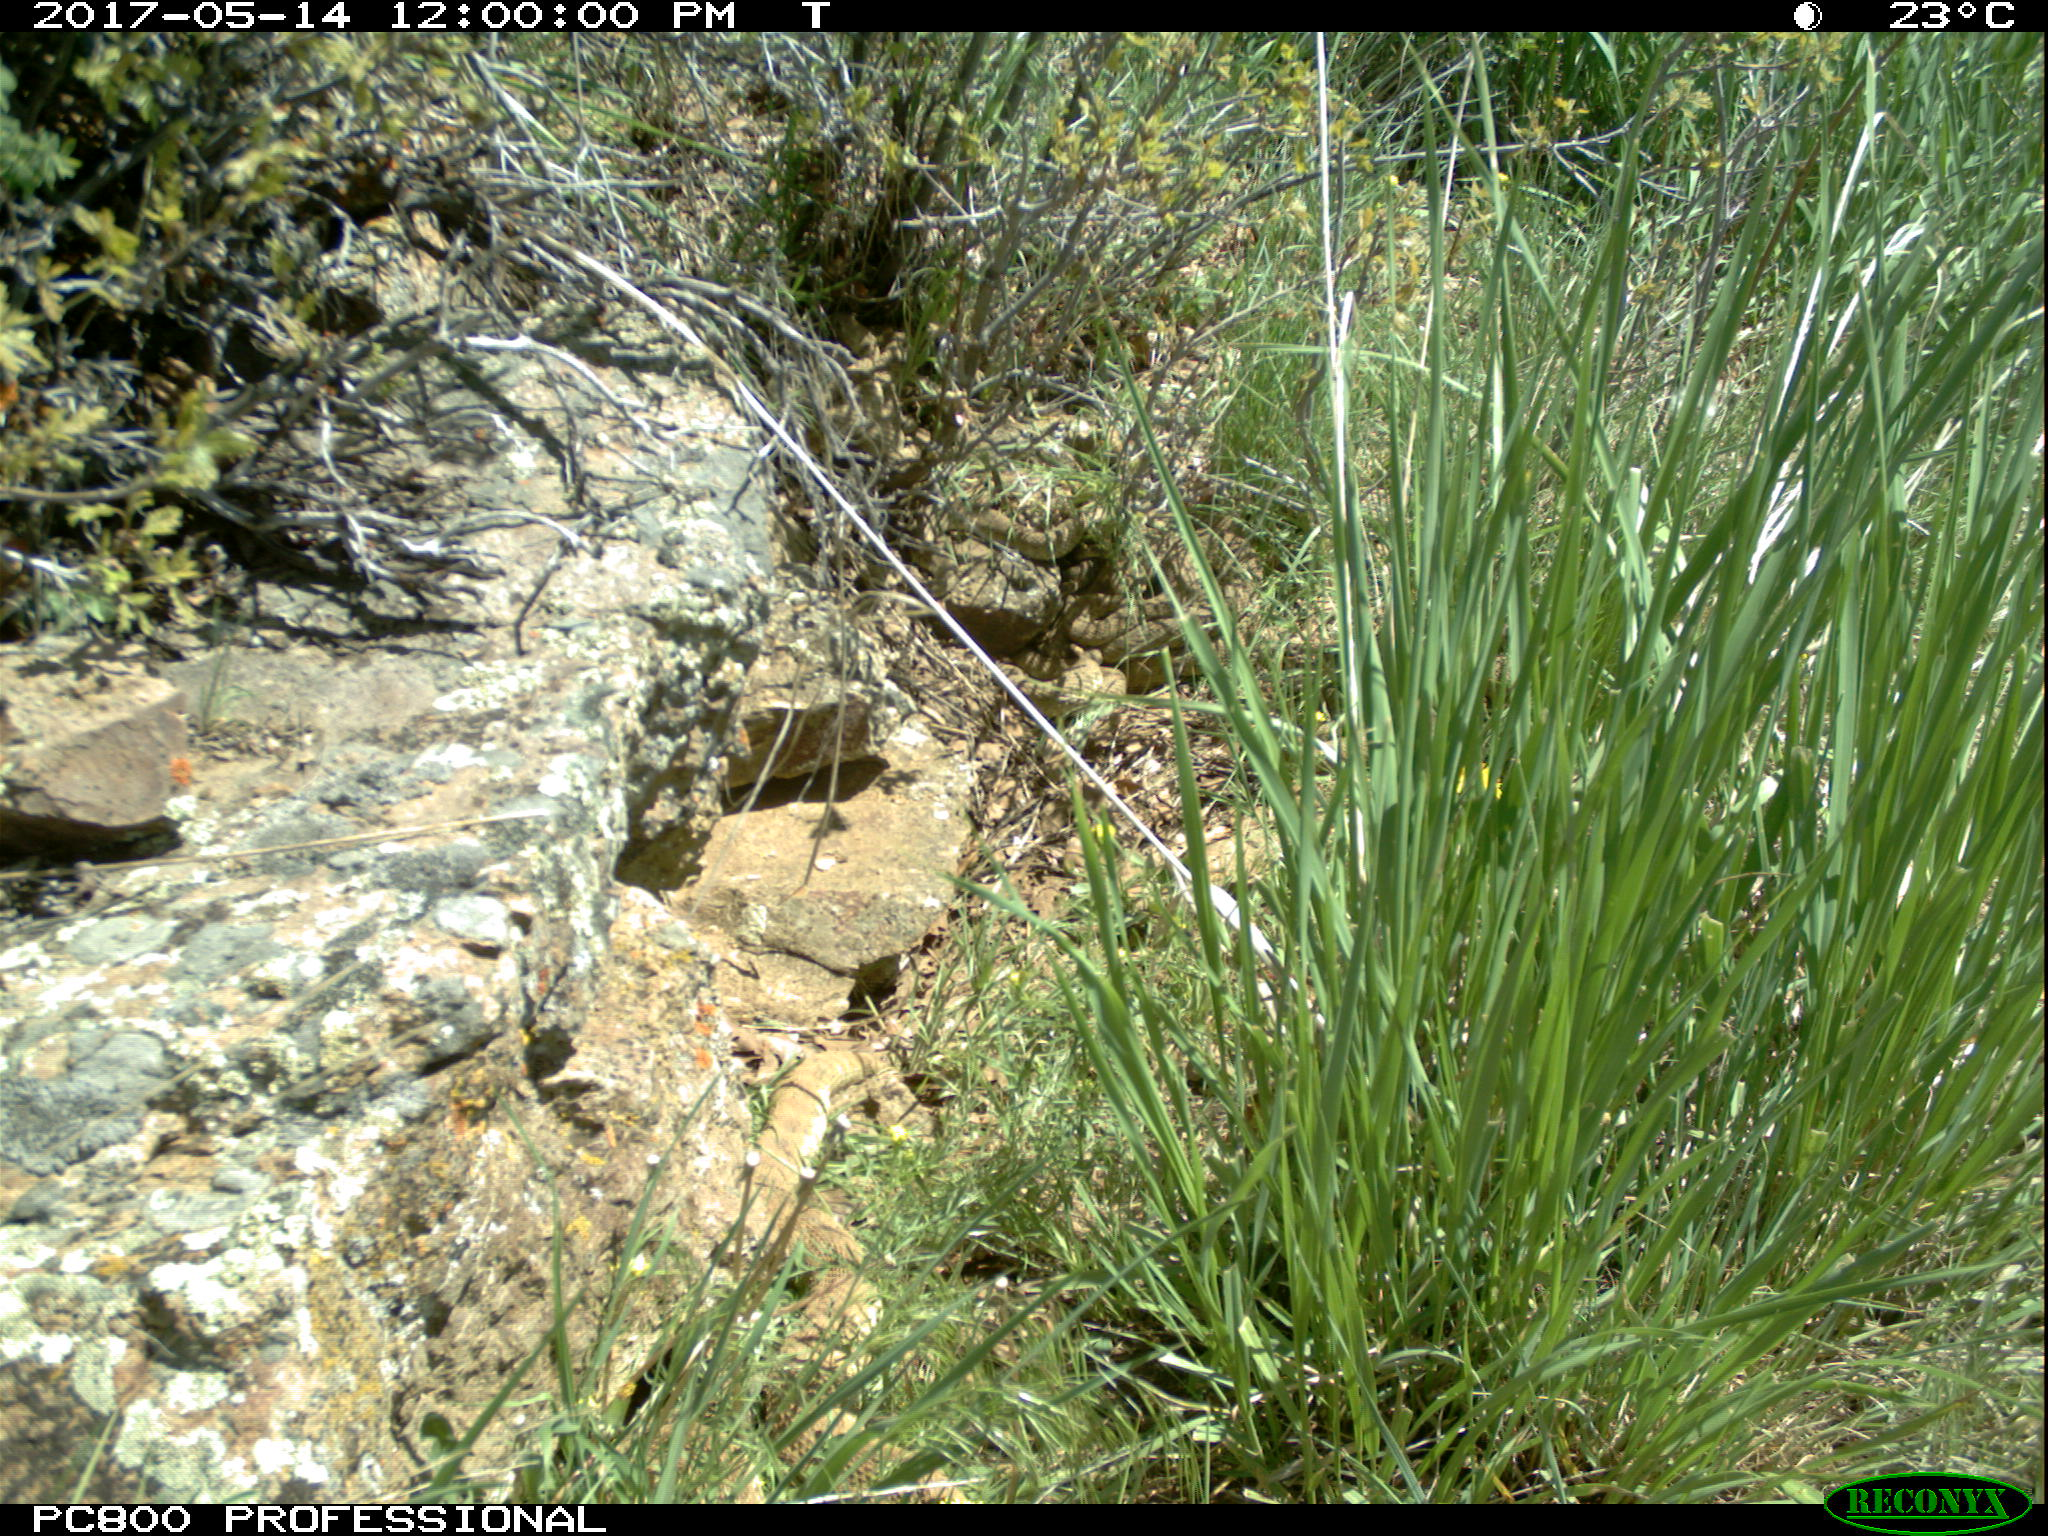snake: (735, 1044, 887, 1359), (761, 1365, 959, 1501), (1053, 584, 1188, 665), (951, 502, 1114, 561), (984, 658, 1130, 712)
